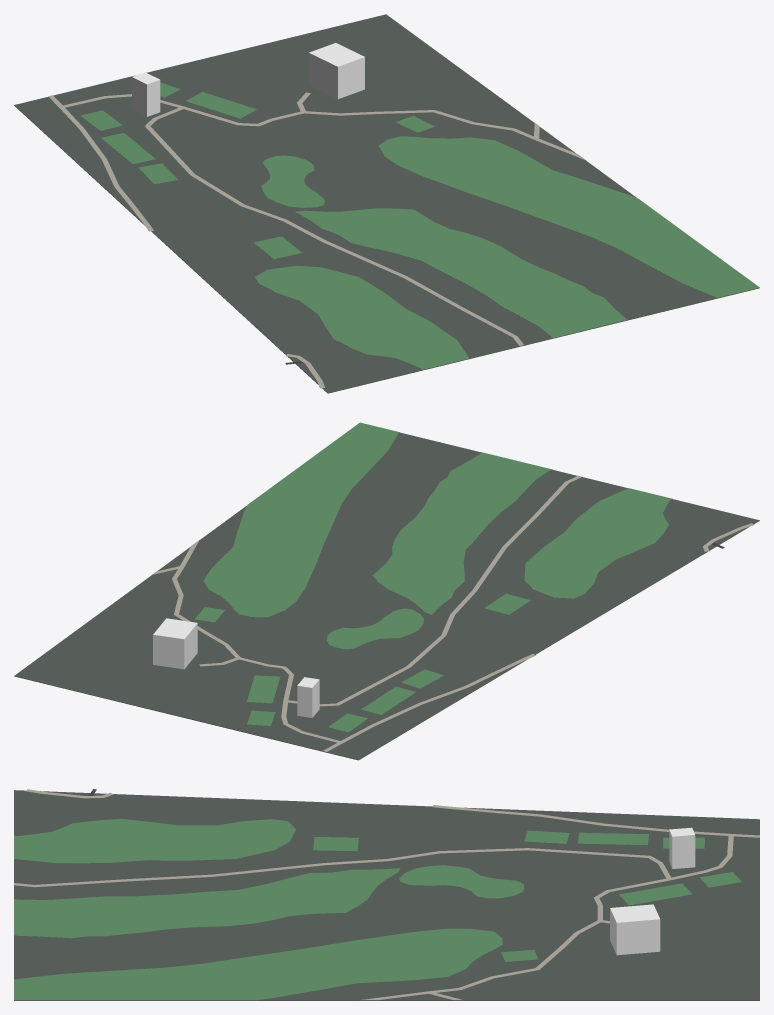
File: tile_000_008.glb
The picture shows the model from 3 angles, top to bottom: view 1: azimuth 30°, elevation 25°; view 2: azimuth 150°, elevation 25°; view 3: azimuth 270°, elevation 25°; orthographic projection. The views are drawn at different scales.
Visible parts, largest first — view 1: tile_000_008_ground, tile_000_008_open_spaces, tile_000_008_paths, tile_000_008_buildings_neutral; view 2: tile_000_008_ground, tile_000_008_open_spaces, tile_000_008_paths, tile_000_008_buildings_neutral; view 3: tile_000_008_ground, tile_000_008_open_spaces, tile_000_008_paths, tile_000_008_buildings_neutral.
Boxes of the visible parts, x1,y1,x2,y2 form: tile_000_008_ground: [14, 14, 759, 393]; tile_000_008_open_spaces: [80, 82, 759, 369]; tile_000_008_paths: [48, 92, 586, 388]; tile_000_008_buildings_neutral: [132, 43, 364, 116]; tile_000_008_ground: [14, 432, 759, 760]; tile_000_008_open_spaces: [194, 422, 672, 732]; tile_000_008_paths: [152, 475, 754, 751]; tile_000_008_buildings_neutral: [153, 618, 319, 717]; tile_000_008_ground: [14, 790, 759, 1000]; tile_000_008_open_spaces: [14, 819, 741, 1000]; tile_000_008_paths: [14, 789, 759, 1000]; tile_000_008_buildings_neutral: [610, 827, 695, 955].
Bounding box in the file's own units: 168 × 12.16 × 250.
